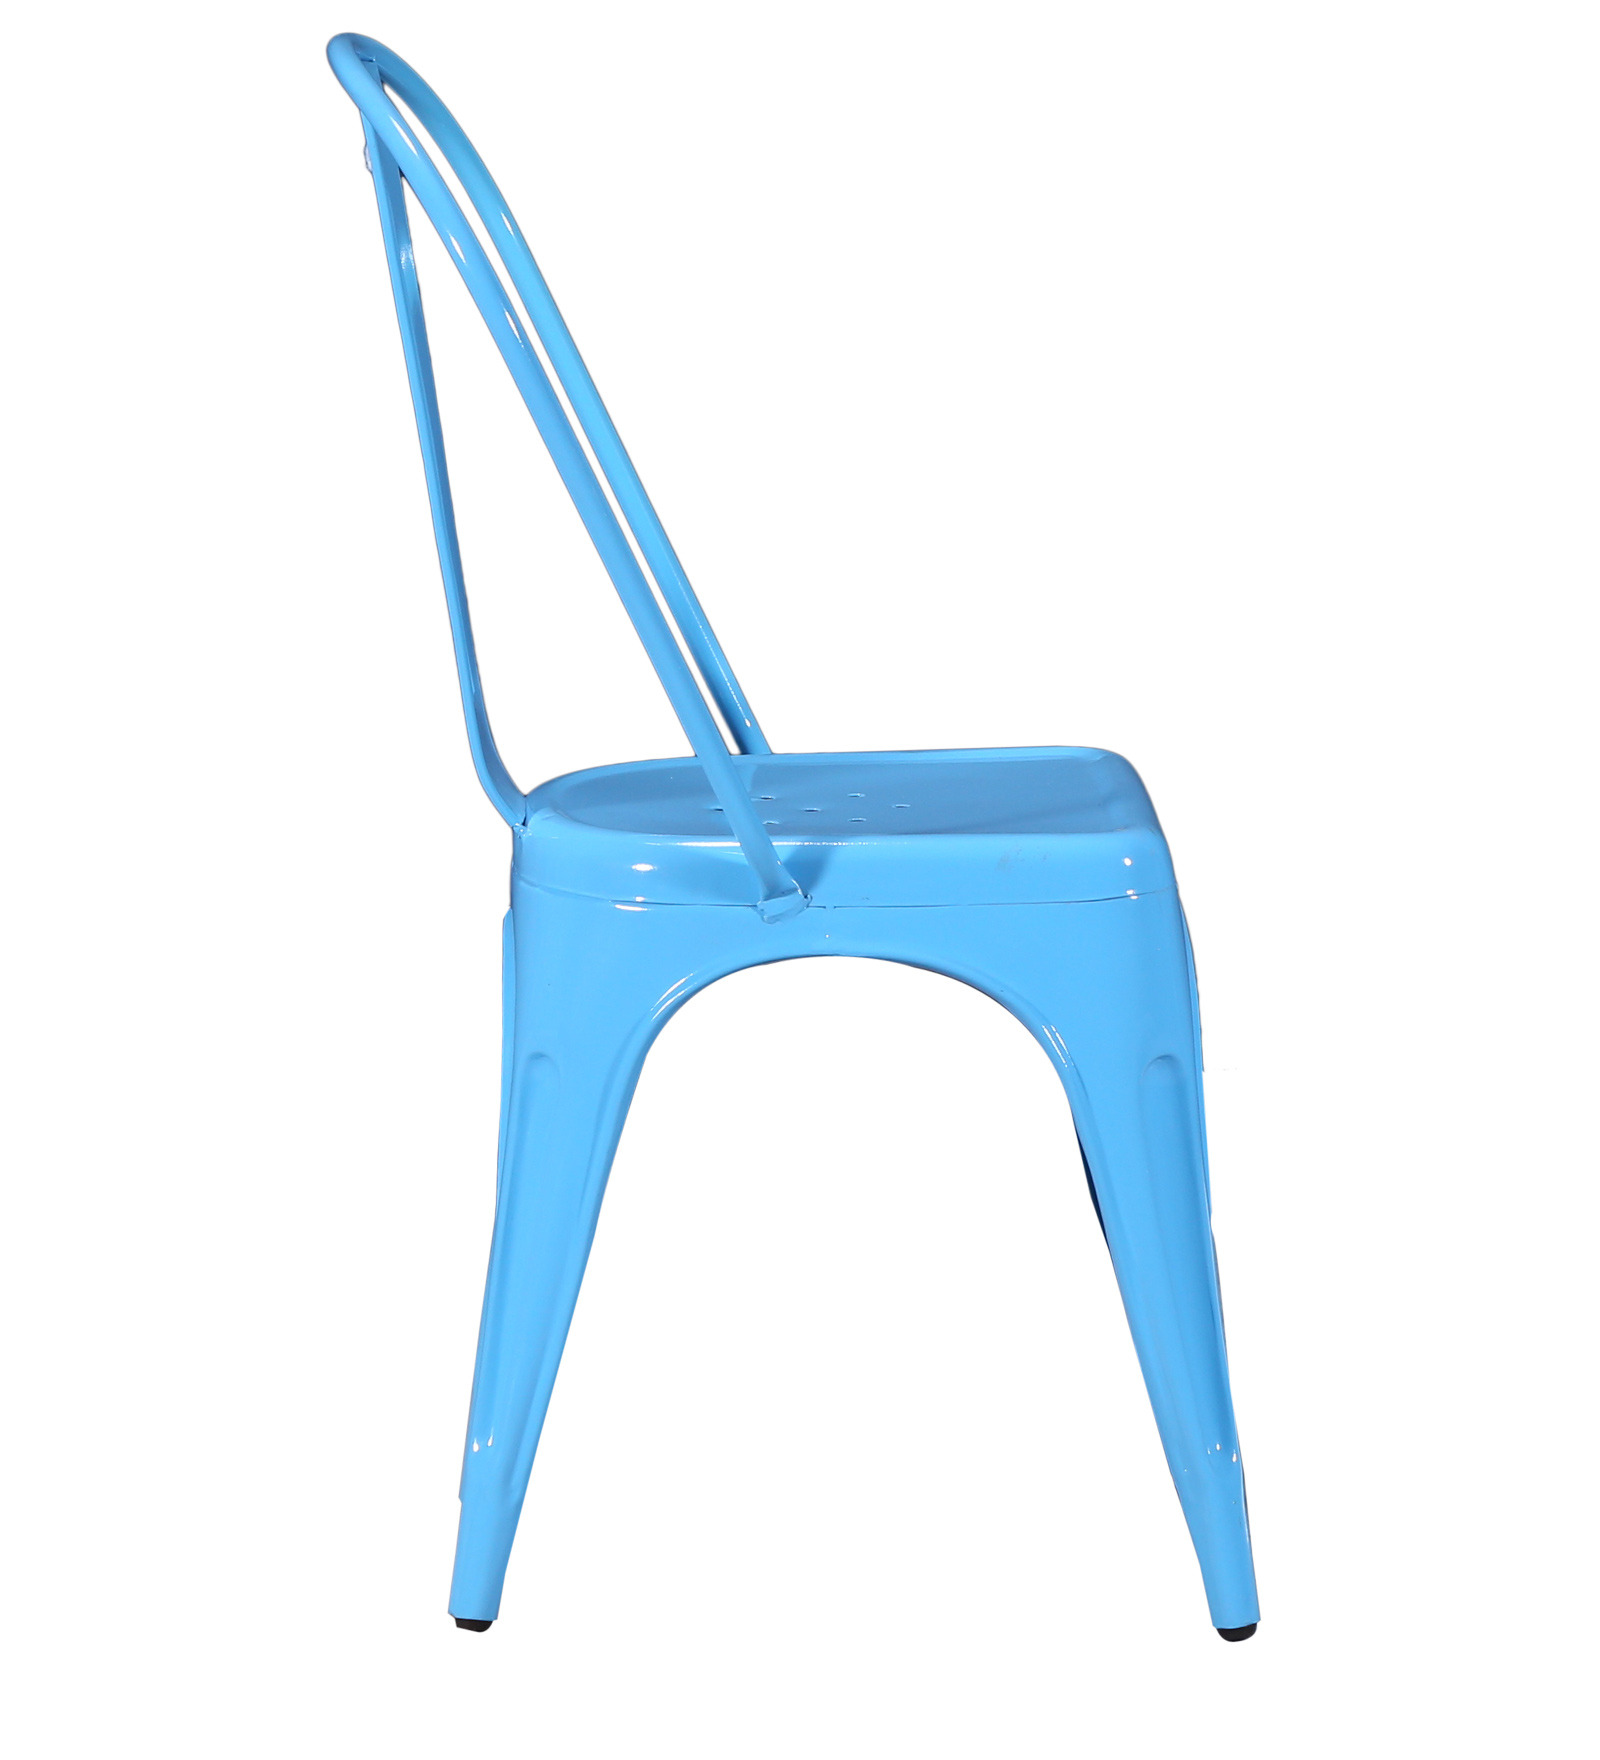Ekati Metal Chair in Blue Color by Bohemiana: (270, 8, 1304, 1702)
